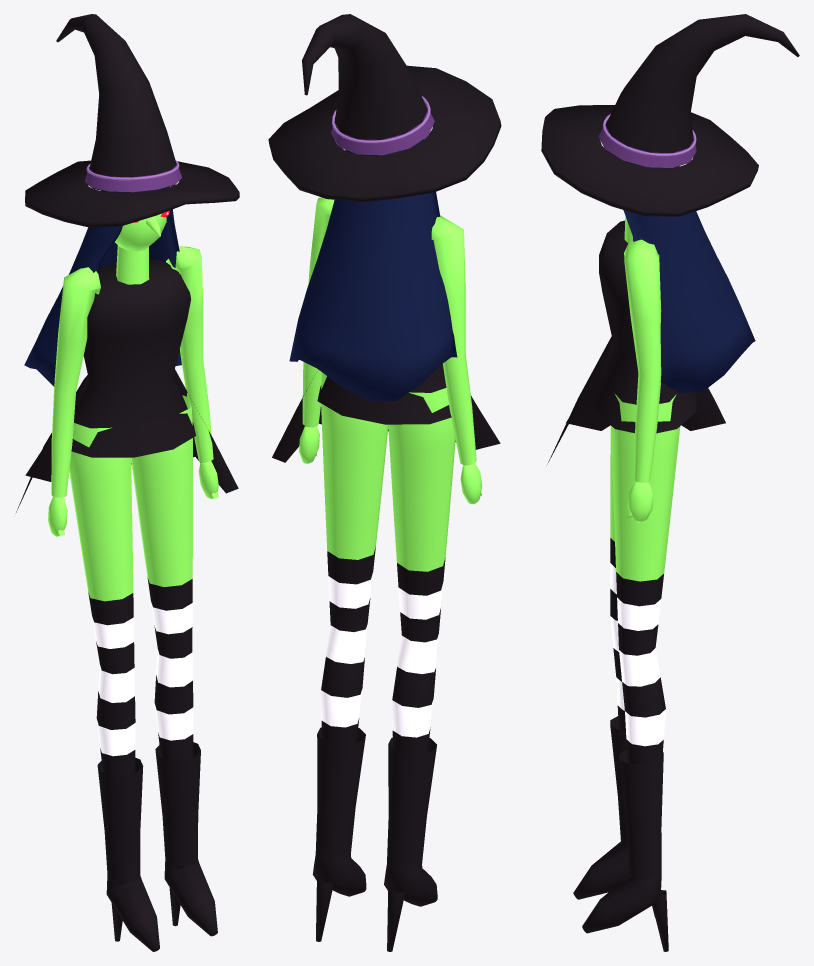
The model's file is witch_stand.glb.
3 renders of one model, left to right at view 1: azimuth 30°, elevation 25°; view 2: azimuth 150°, elevation 25°; view 3: azimuth 270°, elevation 25°, orthographic. The views are drawn at different scales.
Parts seen in each view (by area): view 1: HWG_Witch_stand; view 2: HWG_Witch_stand; view 3: HWG_Witch_stand.
Part boxes in pixels (box(x1,y1,x2,y2)): HWG_Witch_stand: box(16, 14, 239, 951); HWG_Witch_stand: box(268, 14, 501, 951); HWG_Witch_stand: box(541, 14, 799, 951).
Size of the model in its own units: 0.3238 by 1.37 by 0.3519.
